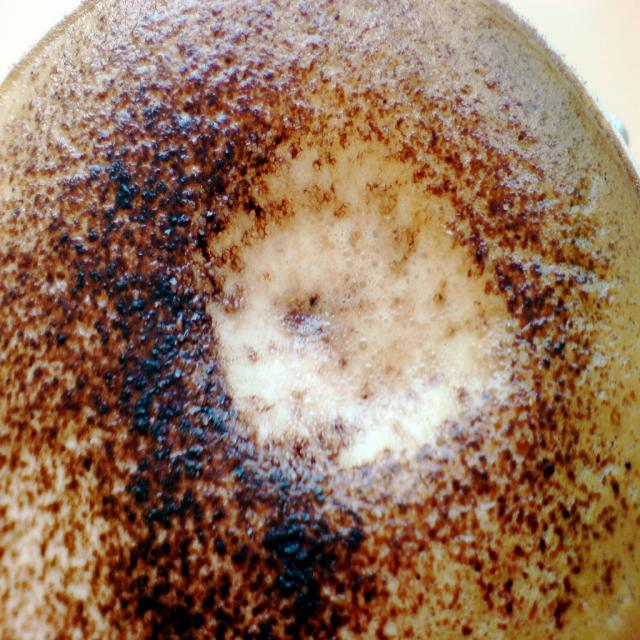Coffee: (0, 0, 639, 636)
